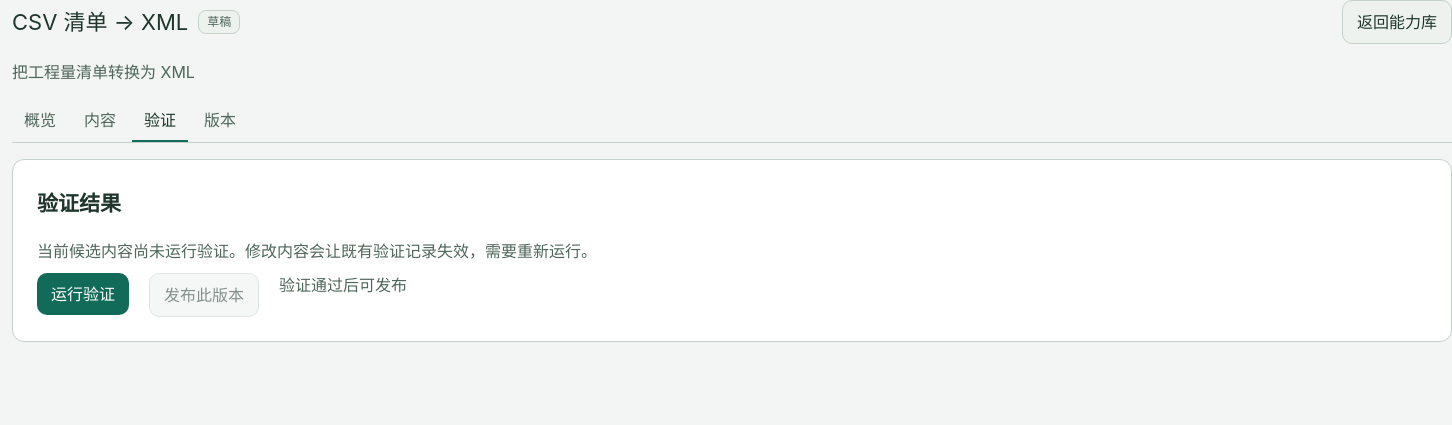
Test case: runs a real validation job, reports its summary and reloads the pack
The width and height of the screenshot is (1452, 425).
What coordinates should you click on to do the following:
click the button "运行验证"
I would click on:
 (83, 294)
Its box is [37,273,129,315].
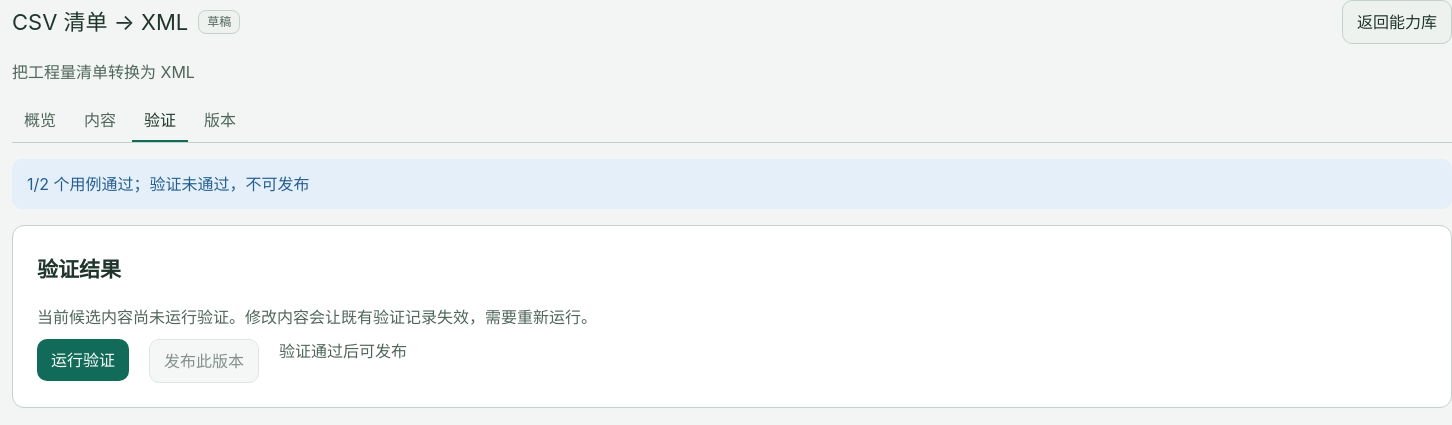
Now the text "1/2 个用例通过；验证未通过，不可发布" is shown, box [12,159,1451,209]
